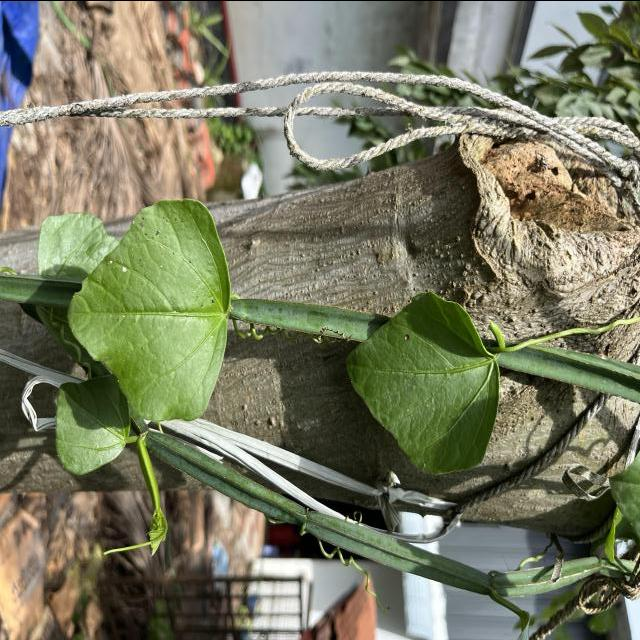Cissus quadrangularis: (63, 196, 233, 427), (342, 286, 504, 478), (54, 370, 132, 478)
